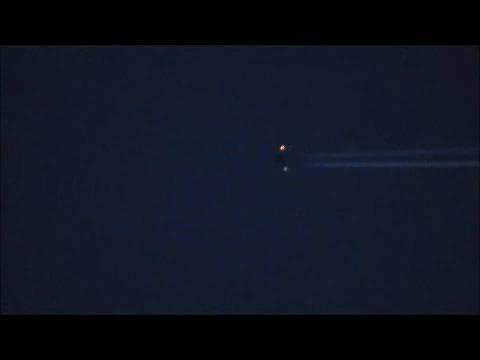Plane: (259, 135, 478, 185)
